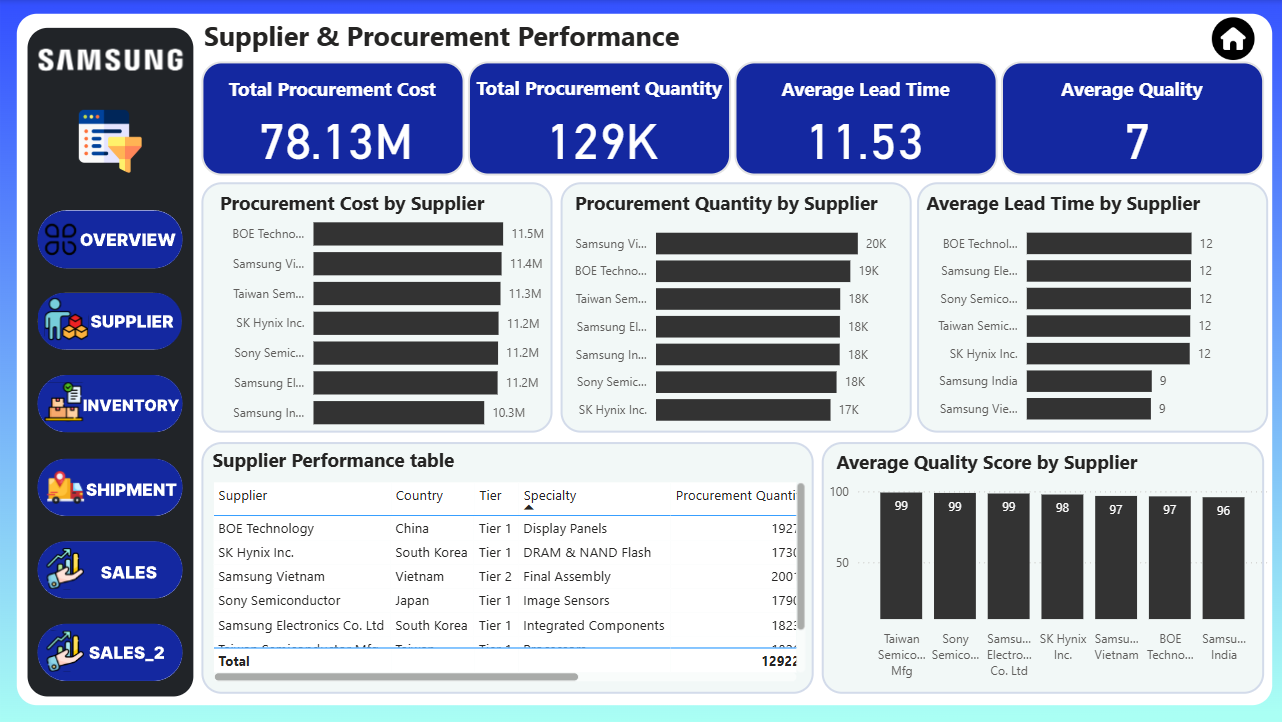

The dashboard page shown, as its layout file describes it:
{"tool":"powerbi","page":{"name":"Supplier & Procurement","canvas":[1280,720],"ordinal":2},"visuals":[{"type":"barChart","fields":{"Category":["dim_supplier.supplier_name"],"Y":["Sum(fact_procurement.total_cost)"]},"box":[213,196.1,340.3,242.9],"z":0},{"type":"actionButton","box":[37.2,208.1,144.2,58.1],"z":0,"group":"g1"},{"type":"actionButton","box":[37.2,290.7,143,57],"z":0,"group":"g4"},{"type":"actionButton","box":[37.6,372.9,144,57],"z":0,"group":"g2"},{"type":"actionButton","box":[37.2,455.2,144.2,57.1],"z":0,"group":"g5"},{"type":"actionButton","box":[37.2,537.5,144.2,57.1],"z":0,"group":"g3"},{"type":"actionButton","box":[37.2,619.8,144.2,57.1],"z":0,"group":"g6"},{"type":"card","fields":{"Values":["Sum(fact_procurement.total_cost)"]},"box":[209.1,104.2,249.4,61],"z":1000},{"type":"card","fields":{"Values":["fact_procurement.total_quantity_procuremnt"]},"box":[477.9,104.2,240.3,61],"z":2000},{"type":"card","fields":{"Values":["fact_procurement.avg_lead_time"]},"box":[739,104.2,240.3,61],"z":3000},{"type":"card","fields":{"Values":["CountNonNull(dim_supplier.avg_quality_score)"]},"box":[1015.6,104.2,227.3,61],"z":4000},{"type":"barChart","fields":{"Category":["dim_supplier.supplier_name"],"Y":["fact_procurement.total_quantity_procuremnt"]},"box":[553.2,207.8,339,227.3],"z":5000},{"type":"barChart","fields":{"Y":["fact_procurement.avg_lead_time"],"Category":["dim_supplier.supplier_name"]},"box":[914.3,207.8,366.2,226],"z":6000},{"type":"clusteredColumnChart","fields":{"Category":["dim_supplier.supplier_name"],"Y":["Avg(dim_supplier.avg_quality_score)"]},"box":[818.2,474,445.5,207.8],"z":7000},{"type":"tableEx","fields":{"Values":["dim_supplier.supplier_name","dim_supplier.country","dim_supplier.tier","dim_supplier.specialty","fact_procurement.total_quantity_procuremnt","Sum(fact_procurement.total_cost)","fact_procurement.avg_lead_time","dim_supplier.avg_quality_score"]},"box":[206.5,474,598.7,207.8],"z":8000},{"type":"textbox","box":[213,183.1,302.6,48.1],"z":9000},{"type":"textbox","box":[826,440.3,368.8,48.1],"z":10000},{"type":"textbox","box":[206.5,439,300,48.1],"z":11000},{"type":"textbox","box":[914.3,183.1,329.9,48.1],"z":12000},{"type":"textbox","box":[566.2,183.1,366.2,48.1],"z":13000},{"type":"textbox","box":[731.4,70.3,256.8,48],"z":14000},{"type":"textbox","box":[996,70.3,256.8,48],"z":15000},{"type":"textbox","box":[467.5,70.1,267.5,48.1],"z":16000},{"type":"textbox","box":[199.9,70.3,260.2,48],"z":17000},{"type":"group","id":"g1","title":"overview_button","box":[37.2,208.1,144.2,58.1],"z":19000},{"type":"group","id":"g2","title":"overview_button","box":[37.6,372.9,144,57],"z":20000},{"type":"group","id":"g3","title":"overview_button","box":[37.2,537.5,144.2,57],"z":21000},{"type":"group","id":"g4","title":"overview_button","box":[37.2,290.7,143,57],"z":22000},{"type":"group","id":"g5","title":"overview_button","box":[37.2,455.2,144.2,57],"z":23000},{"type":"group","id":"g6","title":"overview_button","box":[37.2,619.8,144.2,57],"z":24000},{"type":"image","box":[56.4,104.5,106.9,72],"z":25000},{"type":"textbox","box":[197.6,12.3,520.3,46.9],"z":25501},{"type":"image","box":[1184.7,12.3,80.4,52.5],"z":25502}]}

Visuals, with their boxes in screenshot pixels (x1, y1, x2, y2), scaled from the page's 1280x720 canvas onto the 1282x722 screenshot:
barChart - dim_supplier.supplier_name x Sum(fact_procurement.total_cost): select_region(213, 197, 554, 440)
actionButton: select_region(37, 209, 182, 267)
actionButton: select_region(37, 292, 180, 349)
actionButton: select_region(38, 374, 182, 431)
actionButton: select_region(37, 456, 182, 514)
actionButton: select_region(37, 539, 182, 596)
actionButton: select_region(37, 622, 182, 679)
card - Sum(fact_procurement.total_cost): select_region(209, 104, 459, 166)
card - fact_procurement.total_quantity_procuremnt: select_region(479, 104, 719, 166)
card - fact_procurement.avg_lead_time: select_region(740, 104, 981, 166)
card - CountNonNull(dim_supplier.avg_quality_score): select_region(1017, 104, 1245, 166)
barChart - dim_supplier.supplier_name x fact_procurement.total_quantity_procuremnt: select_region(554, 208, 894, 436)
barChart - fact_procurement.avg_lead_time x dim_supplier.supplier_name: select_region(916, 208, 1281, 435)
clusteredColumnChart - dim_supplier.supplier_name x Avg(dim_supplier.avg_quality_score): select_region(819, 475, 1266, 684)
tableEx - dim_supplier.supplier_name x dim_supplier.country: select_region(207, 475, 806, 684)
textbox: select_region(213, 184, 516, 232)
textbox: select_region(827, 442, 1197, 490)
textbox: select_region(207, 440, 507, 488)
textbox: select_region(916, 184, 1246, 232)
textbox: select_region(567, 184, 934, 232)
textbox: select_region(733, 70, 990, 119)
textbox: select_region(998, 70, 1255, 119)
textbox: select_region(468, 70, 736, 119)
textbox: select_region(200, 70, 461, 119)
"overview_button" group: select_region(37, 209, 182, 267)
"overview_button" group: select_region(38, 374, 182, 431)
"overview_button" group: select_region(37, 539, 182, 596)
"overview_button" group: select_region(37, 292, 180, 349)
"overview_button" group: select_region(37, 456, 182, 514)
"overview_button" group: select_region(37, 622, 182, 679)
image: select_region(56, 105, 164, 177)
textbox: select_region(198, 12, 719, 59)
image: select_region(1187, 12, 1267, 65)
